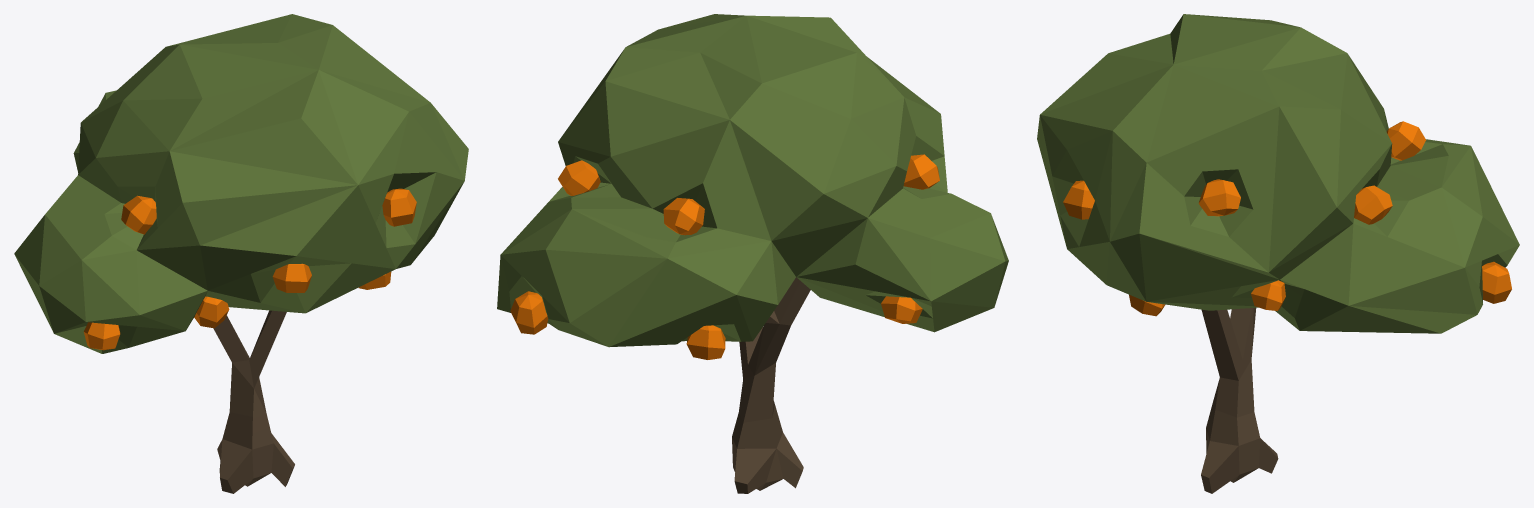
File: orange_tree.glb
3 renders of one model, left to right at view 1: azimuth 30°, elevation 25°; view 2: azimuth 150°, elevation 25°; view 3: azimuth 270°, elevation 25°, orthographic. The views are drawn at different scales.
Parts seen in each view (by area): view 1: SM_Env_Tree_Orange_Grown_01; view 2: SM_Env_Tree_Orange_Grown_01; view 3: SM_Env_Tree_Orange_Grown_01.
Part boxes in pixels (box(x1,y1,x2,y2)): SM_Env_Tree_Orange_Grown_01: box(14, 14, 468, 493); SM_Env_Tree_Orange_Grown_01: box(497, 14, 1008, 493); SM_Env_Tree_Orange_Grown_01: box(1037, 14, 1519, 493).
Bounding box in the file's own units: 3.11 × 3.2 × 3.18.
Materials: 1 (1 with a texture image).
